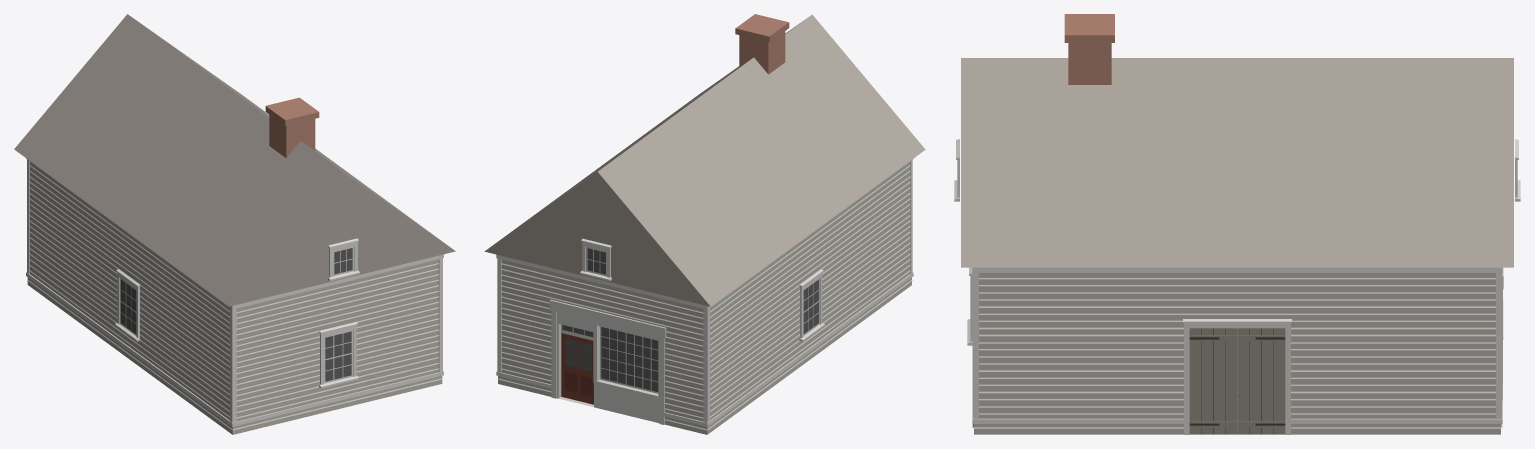
Rendered from recon_1835_core_c2_030__inferred_1835.glb.
3 renders of one model, left to right at view 1: azimuth 30°, elevation 25°; view 2: azimuth 150°, elevation 25°; view 3: azimuth 270°, elevation 25°, orthographic. The views are drawn at different scales.
Visible parts, largest first — view 1: recon_1835_core_c2_030__inferred_1835; view 2: recon_1835_core_c2_030__inferred_1835; view 3: recon_1835_core_c2_030__inferred_1835.
Part boxes in pixels (<box>): recon_1835_core_c2_030__inferred_1835: <box>14,14,455,434</box>; recon_1835_core_c2_030__inferred_1835: <box>484,14,925,434</box>; recon_1835_core_c2_030__inferred_1835: <box>954,14,1520,434</box>.
Size of the model in its own units: 6.53 by 7.35 by 10.96.
